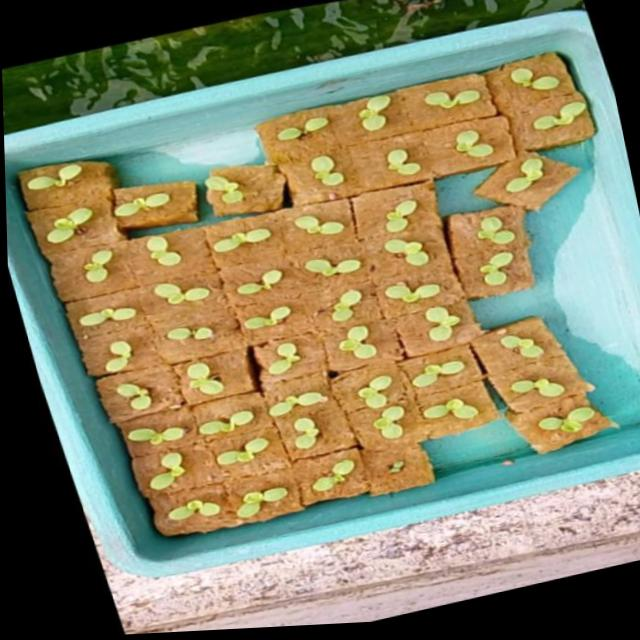Baby: (492, 60, 565, 98), (63, 240, 122, 285), (486, 155, 542, 202), (502, 93, 558, 132), (149, 324, 216, 354), (244, 342, 298, 378), (380, 273, 434, 308), (396, 359, 455, 389), (418, 84, 486, 110), (224, 490, 277, 522), (110, 428, 177, 453), (97, 384, 141, 422), (378, 238, 439, 265), (257, 393, 316, 419), (529, 405, 585, 432), (300, 462, 345, 494), (186, 412, 243, 437), (471, 207, 509, 244), (174, 364, 214, 398), (225, 268, 275, 295), (415, 306, 451, 342), (328, 325, 366, 359), (138, 455, 172, 492), (235, 305, 283, 330), (144, 283, 201, 304), (351, 94, 383, 131), (347, 376, 382, 409), (157, 502, 210, 523), (445, 130, 484, 158), (322, 289, 355, 322), (379, 197, 410, 232), (68, 307, 125, 326), (296, 258, 352, 277), (417, 402, 470, 422), (362, 405, 394, 438), (302, 154, 336, 185), (501, 377, 555, 396), (137, 236, 171, 266), (490, 334, 534, 357), (472, 258, 506, 286), (95, 342, 123, 374), (379, 148, 413, 174), (282, 419, 308, 452), (206, 447, 248, 467), (289, 215, 327, 234)
